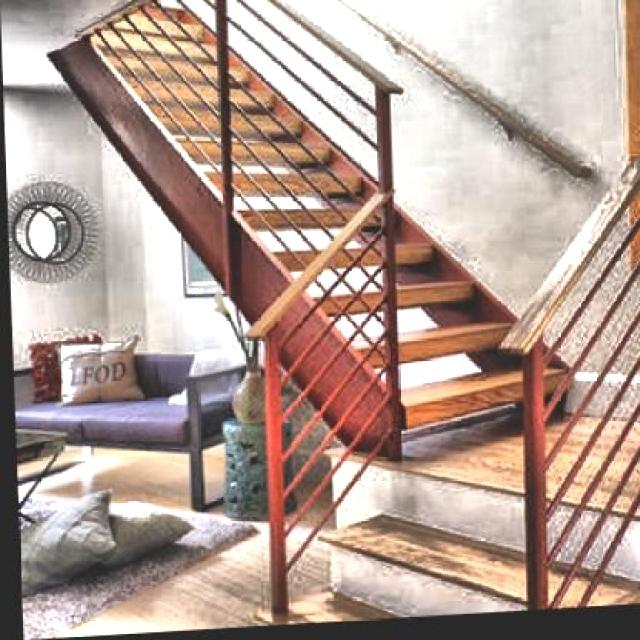stair: (195, 0, 598, 432), (230, 438, 638, 630)
